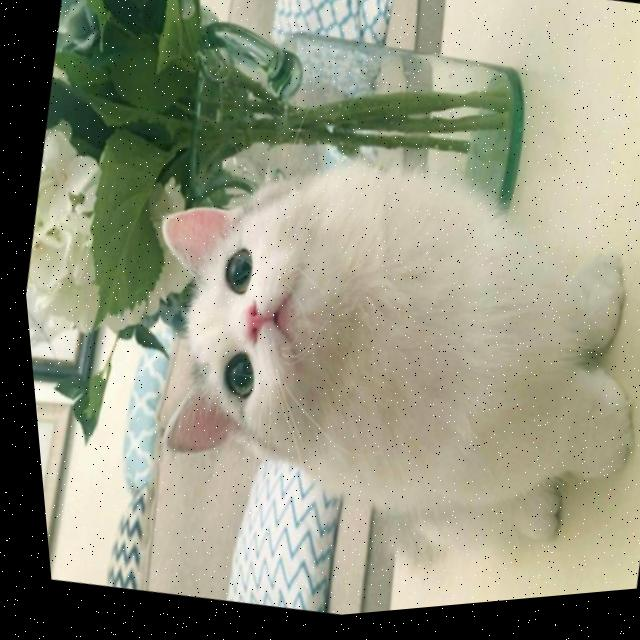Cats: (97, 102, 640, 582)
